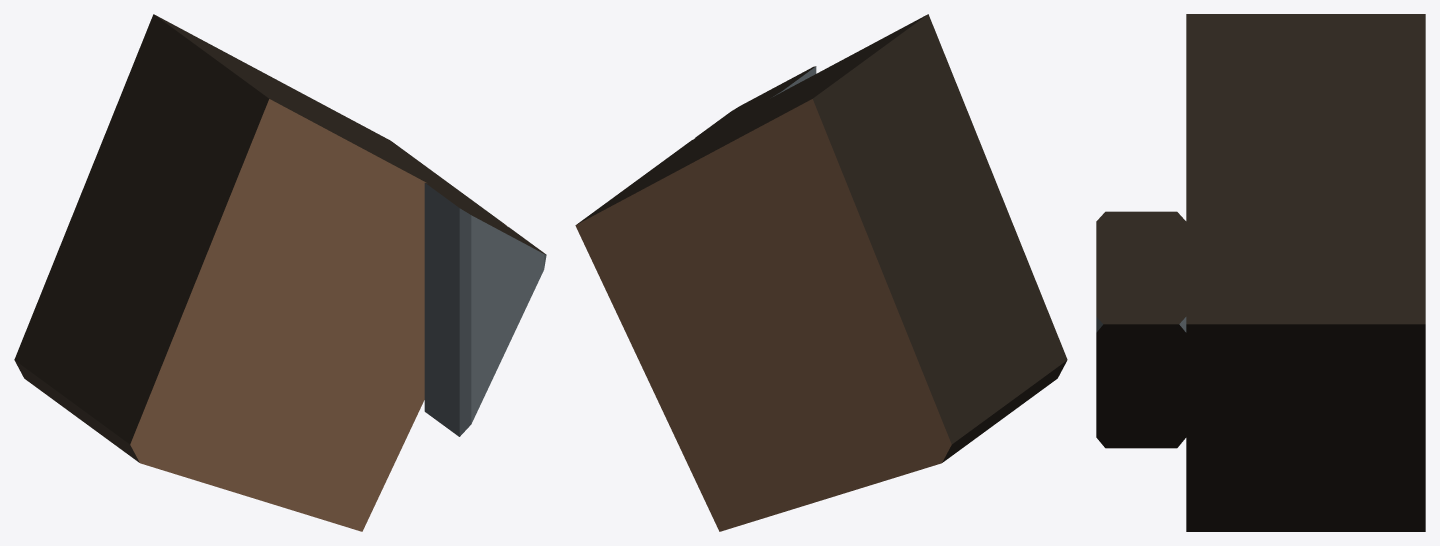
The model's file is SM_DoorShard_03_00.fbx.
3 renders of one model, left to right at view 1: azimuth 30°, elevation 25°; view 2: azimuth 150°, elevation 25°; view 3: azimuth 270°, elevation 25°, orthographic. The views are drawn at different scales.
Visible parts, largest first — view 1: SM_DoorShard_03_00; view 2: SM_DoorShard_03_00; view 3: SM_DoorShard_03_00.
Part boxes in pixels (<box>): SM_DoorShard_03_00: <box>14,14,546,531</box>; SM_DoorShard_03_00: <box>575,14,1067,531</box>; SM_DoorShard_03_00: <box>1096,14,1425,531</box>.
Size of the model in its own units: 30.02 by 22 by 34.74.
